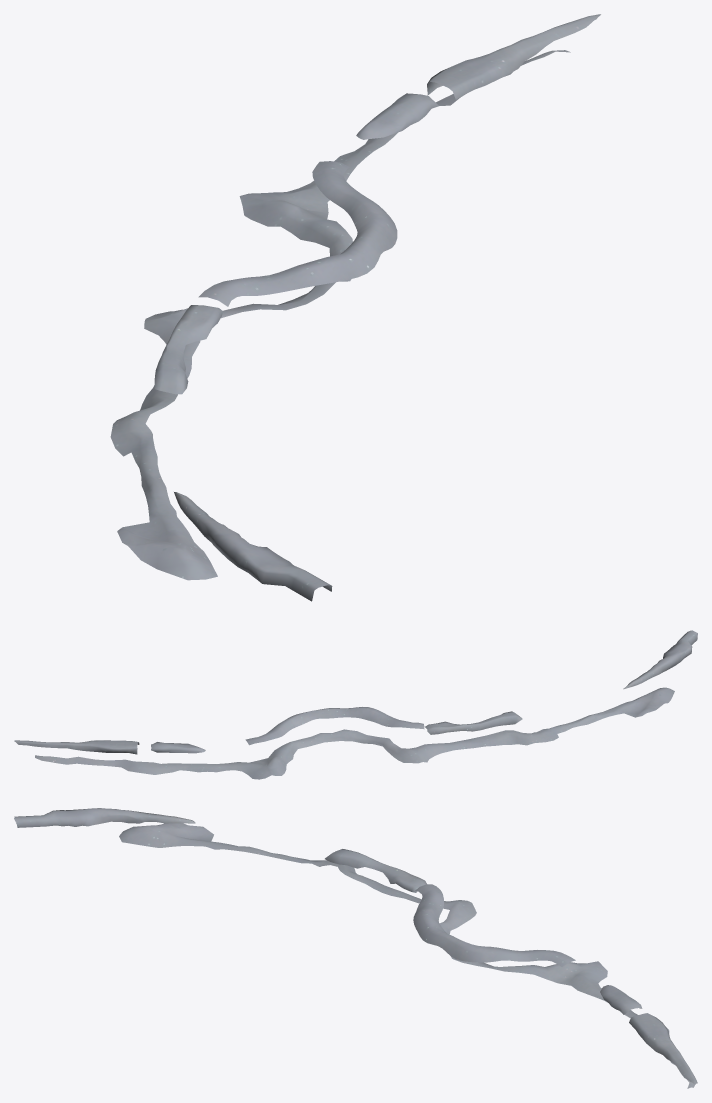
The model's file is pref_sm_beach_winter_snowout05a_lv3.fbx.
The picture shows the model from 3 angles, top to bottom: view 1: azimuth 30°, elevation 25°; view 2: azimuth 150°, elevation 25°; view 3: azimuth 270°, elevation 25°; orthographic projection. The views are drawn at different scales.
Visible parts, largest first — view 1: pref_sm_beach_winter_snowout05a_lv3; view 2: pref_sm_beach_winter_snowout05a_lv3; view 3: pref_sm_beach_winter_snowout05a_lv3.
Part boxes in pixels (left/top/right/bottom): pref_sm_beach_winter_snowout05a_lv3: left=110, top=14, right=600, bottom=601; pref_sm_beach_winter_snowout05a_lv3: left=14, top=630, right=697, bottom=779; pref_sm_beach_winter_snowout05a_lv3: left=14, top=808, right=697, bottom=1088.
Bounding box in the file's own units: 29.63 × 1.82 × 31.43.
